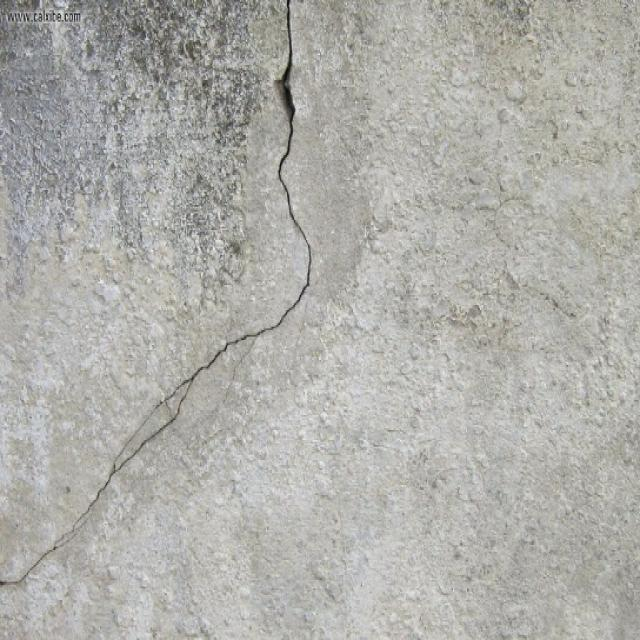crack: (2, 328, 274, 595), (274, 3, 313, 330)
